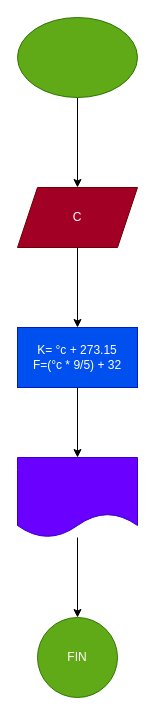
Image size: 155x715. Some labels were removed from this diagram. The shapes that lost their labels are listed below. From the top down, each one's centre as x and y in pixels, then its label:
At (x=77, y=57): "INICIO".
At (x=77, y=497): "k, f".
